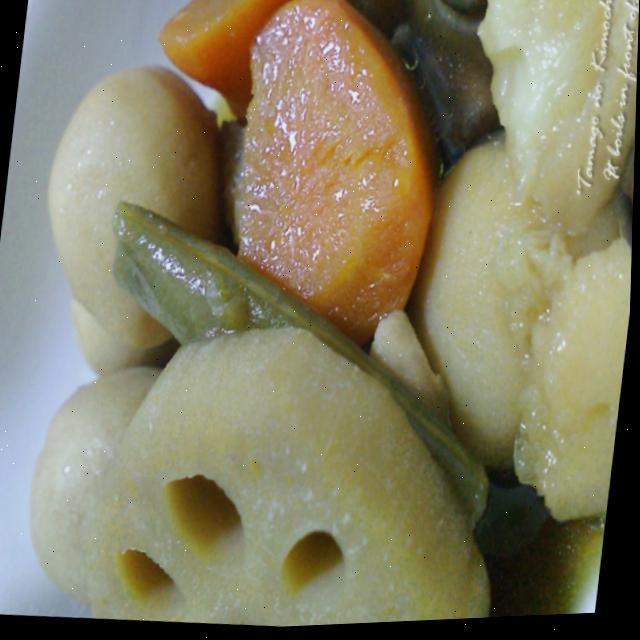鸡肉料理 含炸鸡: (0, 0, 580, 640)
